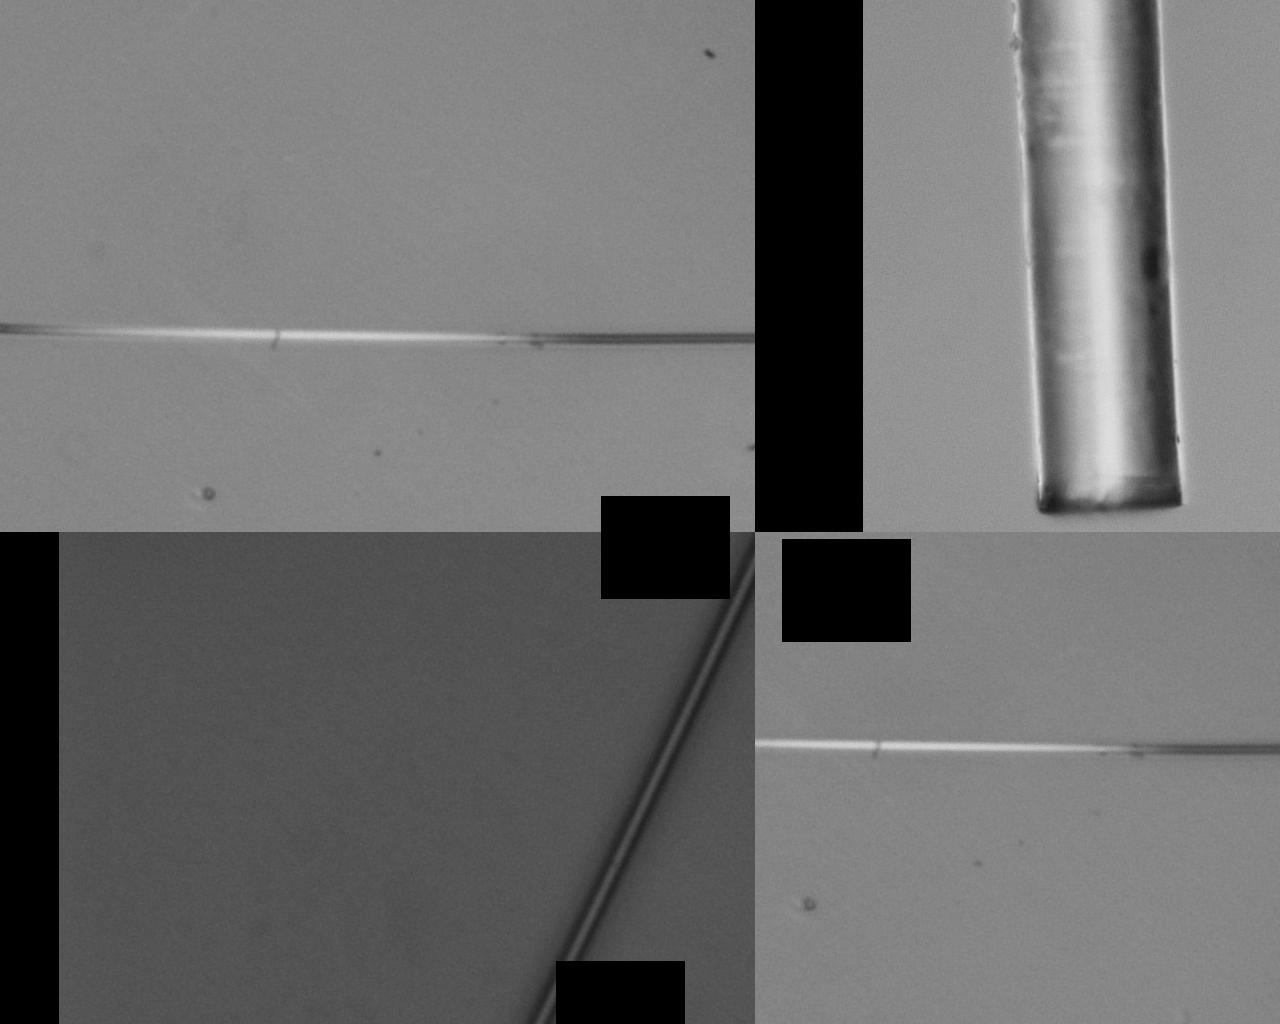fiber: (521, 532, 755, 1024), (1010, 0, 1185, 519), (0, 323, 755, 344), (755, 736, 1280, 758)
